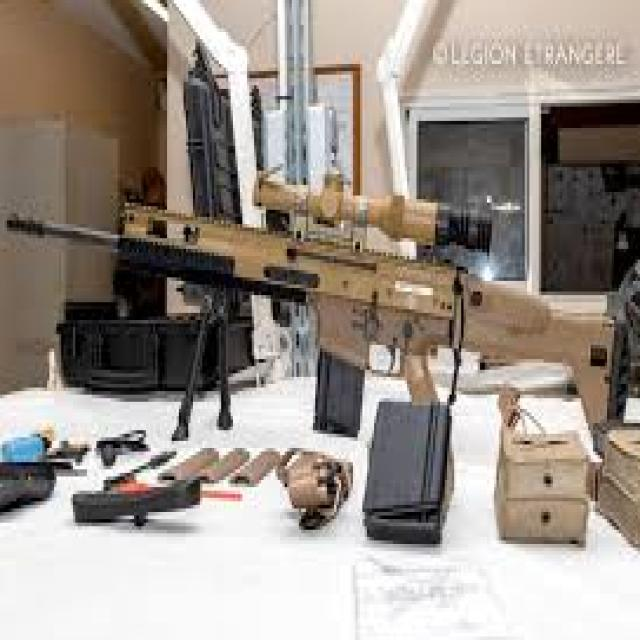Gun: (23, 116, 638, 503)
